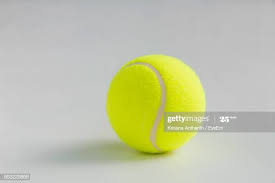tennis_ball: (106, 53, 207, 153)
